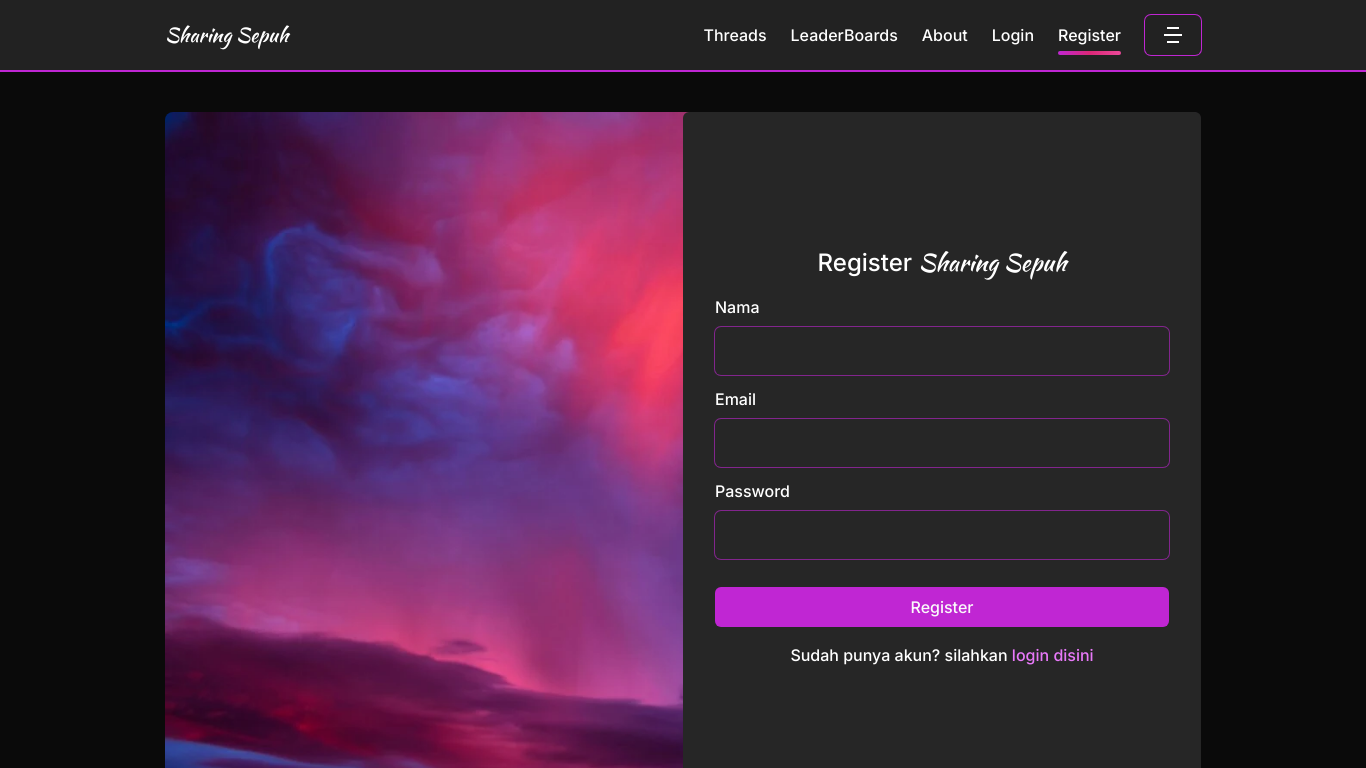
Test: Register spec › should display input note error and button Register disable when name greater than 50 character
Step 1. Type "dummy-name-user-for-testing-end-to-end-with-cypress" into the field labelled "Nama" → {"x": 942, "y": 351}, box [715,327,1169,375]
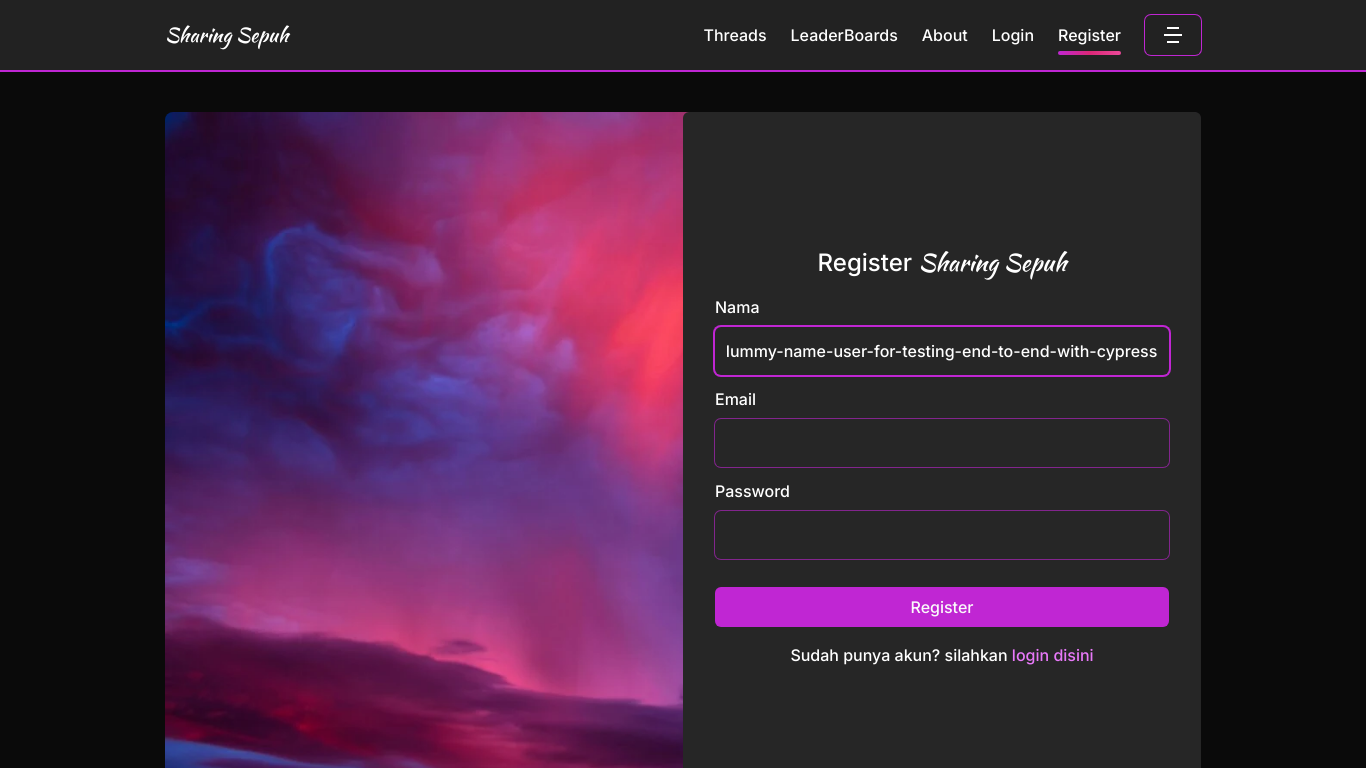
Step 2. Submit the form, box [715,295,1169,627]
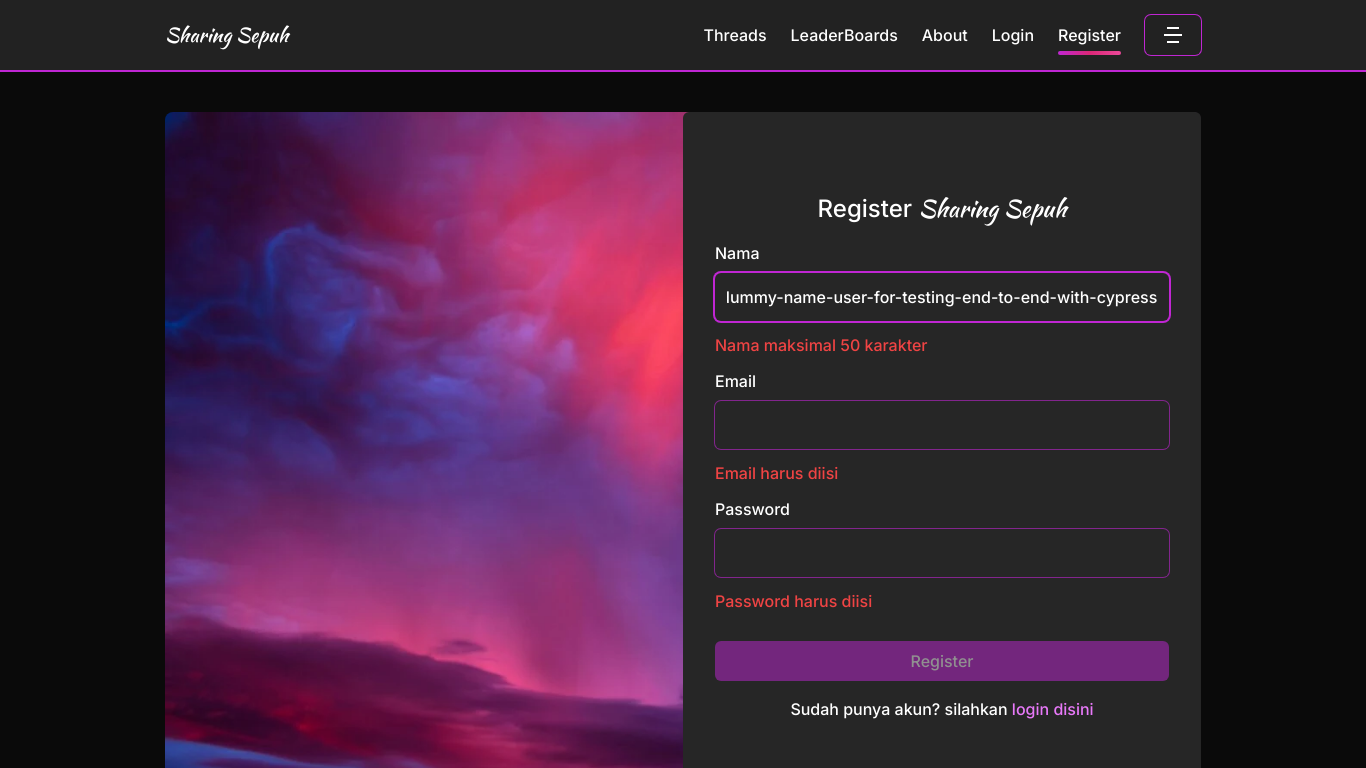
expect the text "Nama maksimal 50 karakter" is shown: met, box [715,335,928,355]
expect the text "Email harus diisi" is shown: met, box [715,463,838,483]
expect the text "Password harus diisi" is shown: met, box [715,591,872,611]
